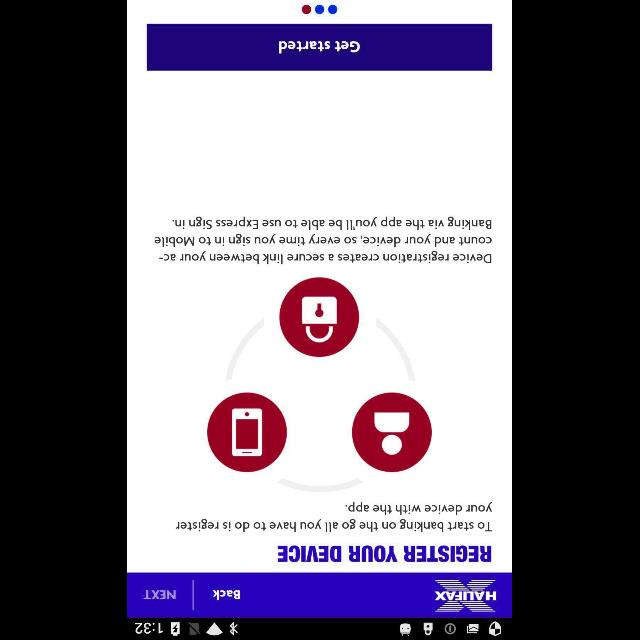image: (208, 278, 432, 492), (436, 578, 498, 614)
pageindicator: (302, 4, 338, 14)
text: (155, 216, 492, 264), (176, 502, 494, 532), (278, 544, 492, 562), (213, 590, 241, 600), (145, 590, 177, 598)
textbutton: (148, 24, 492, 70)
toolbar: (128, 573, 512, 617)
uppertaskbar: (128, 617, 512, 639)
